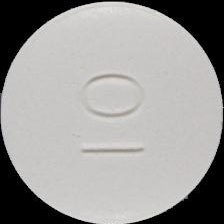63187-255: (0, 0, 224, 224)
